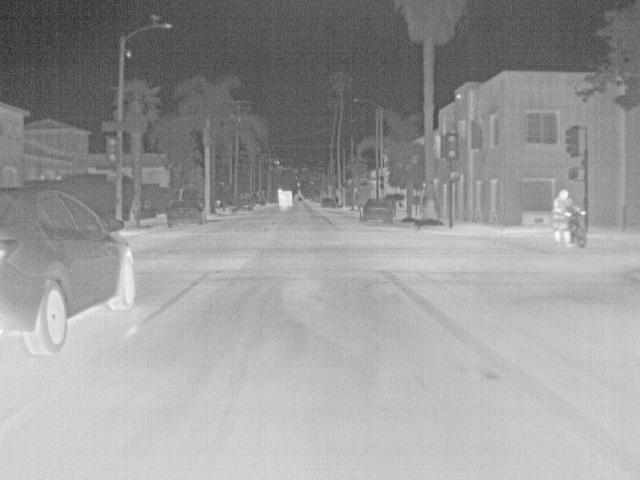car: (1, 184, 135, 359), (166, 199, 205, 229), (358, 198, 395, 226), (320, 198, 336, 211)
person: (553, 188, 574, 250)
